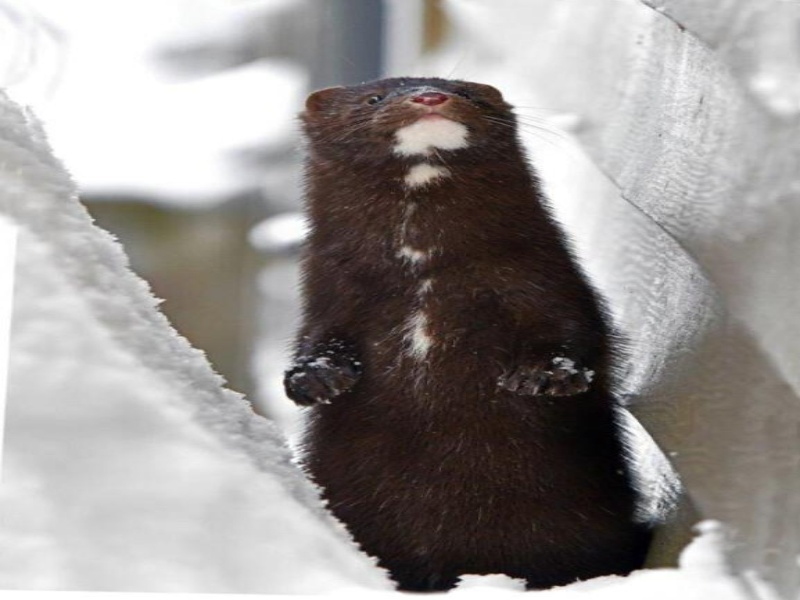minkish: (282, 77, 682, 597)
